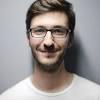Persons: (24, 1, 77, 73)
